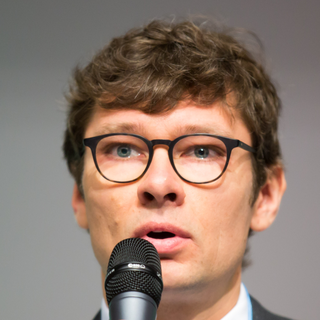eye: (99, 136, 149, 166), (174, 140, 229, 165)
